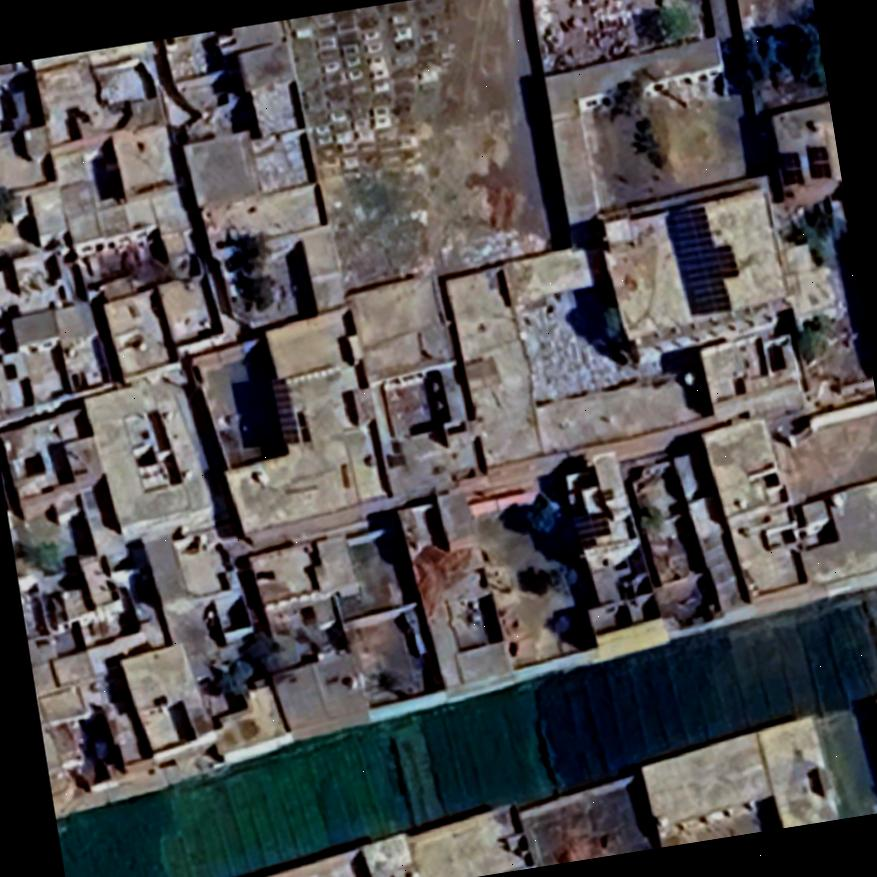Solarpanel: (656, 192, 748, 326), (263, 368, 302, 451), (566, 506, 614, 551), (800, 139, 834, 184), (772, 146, 806, 191)
